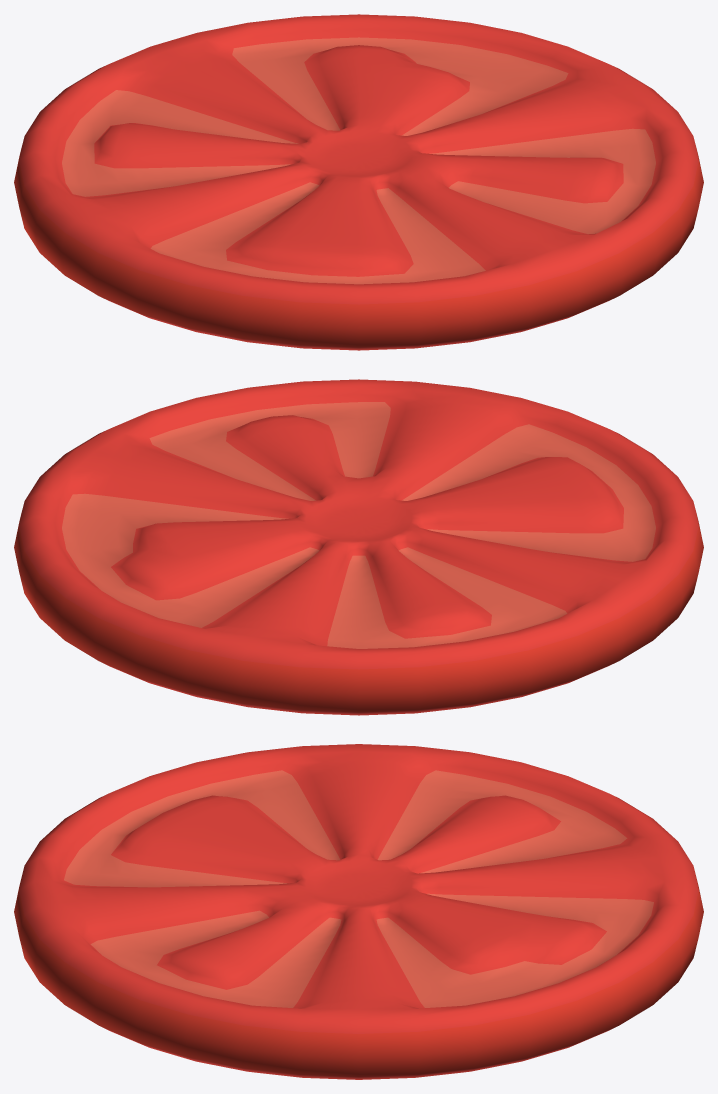
File: tomatoFINAL.fbx
3 views of the same model, one above another, from view 1: azimuth 30°, elevation 25°; view 2: azimuth 150°, elevation 25°; view 3: azimuth 270°, elevation 25° (orthographic).
Parts seen in each view (by area): view 1: Circle; view 2: Circle; view 3: Circle.
Part boxes in pixels (x1,y1,x2,y2): Circle: (14, 14, 703, 350); Circle: (14, 379, 703, 715); Circle: (14, 744, 703, 1079).
Bounding box in the file's own units: 195 × 20.01 × 195.
